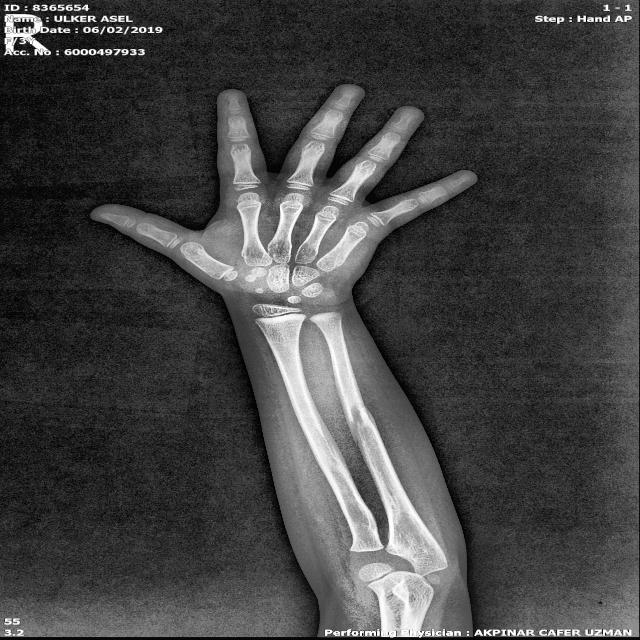Fracture: (333, 402, 396, 449)
